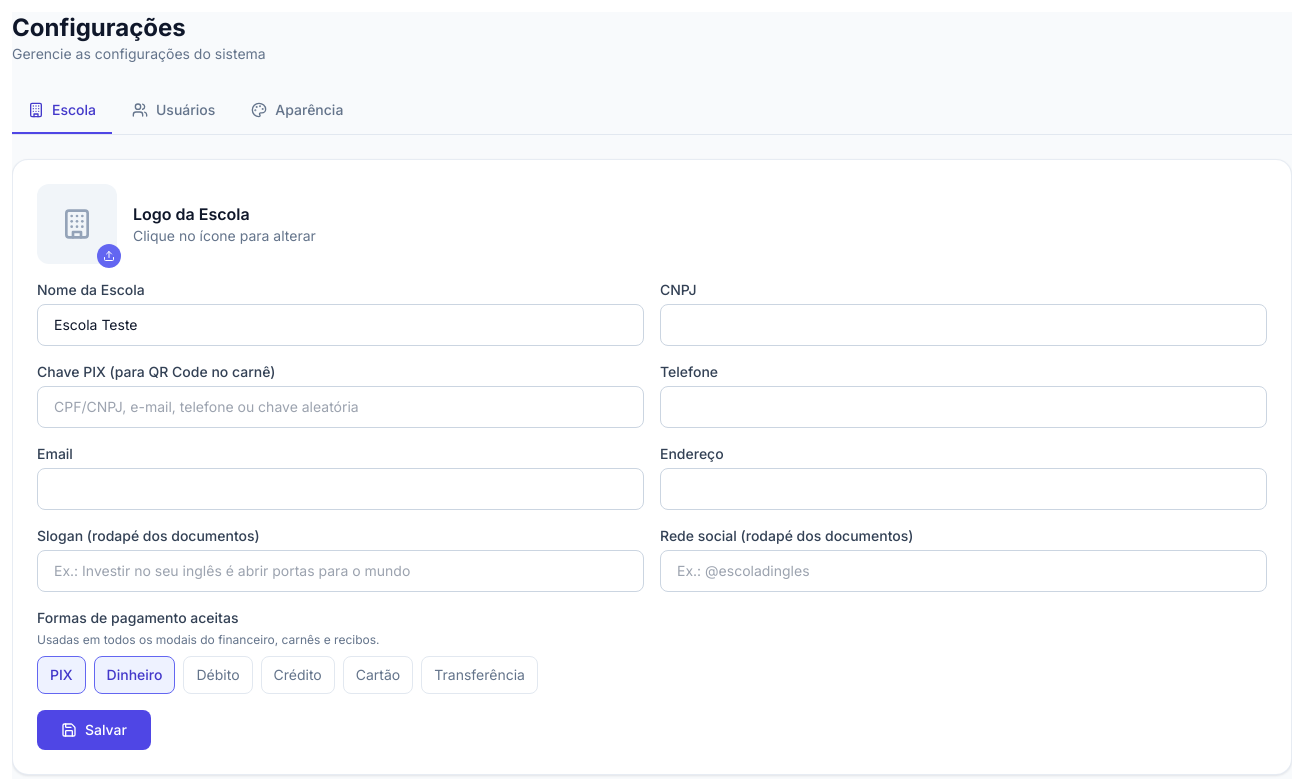
Test: Settings › mantém a chave PIX digitada e mostra erro quando o PUT falha (D-12)
Expected: the field showing "Escola Teste" below "Nome da Escola" is shown, [37,304,644,346]
In the field with placeholder "CPF/CNPJ, e-mail, telefone ou chave aleatória": (340, 407) [37,386,644,428], type "pix@teste.com"
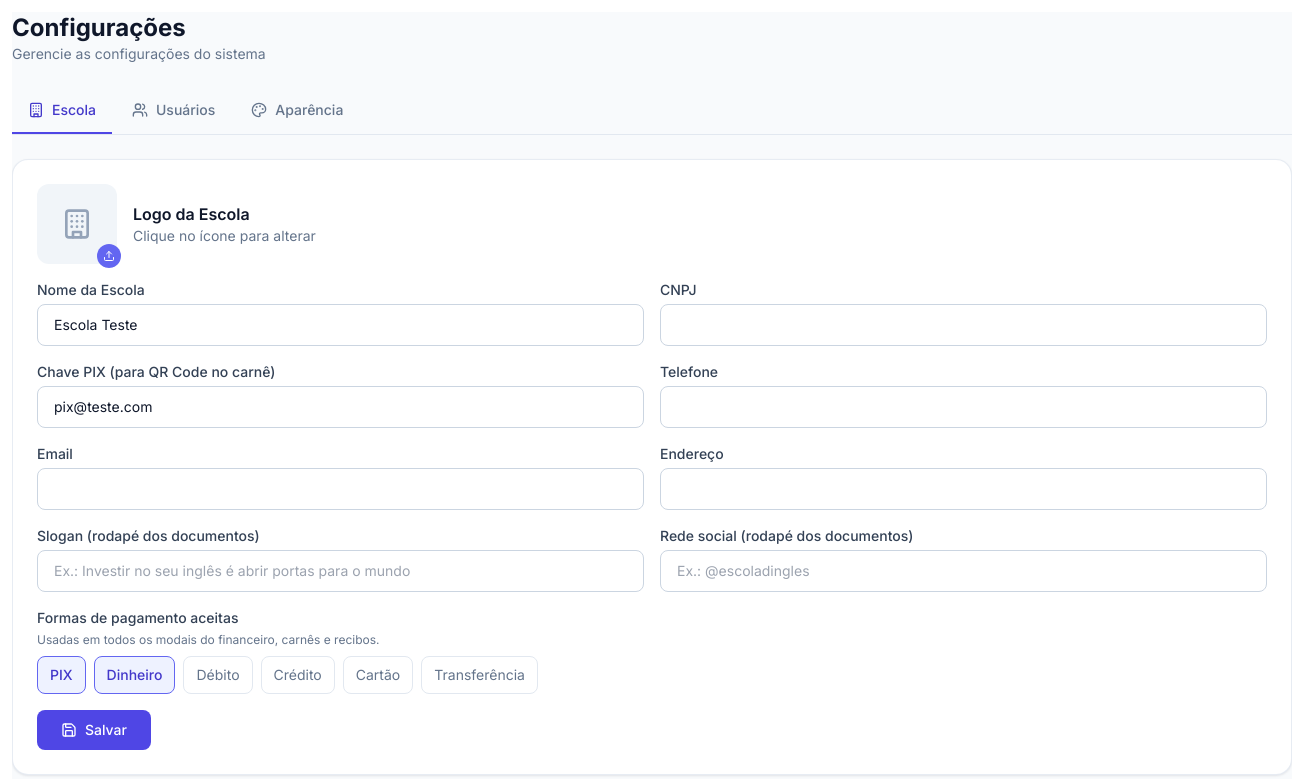
Click the button "Salvar": (94, 730) [37,710,151,750]
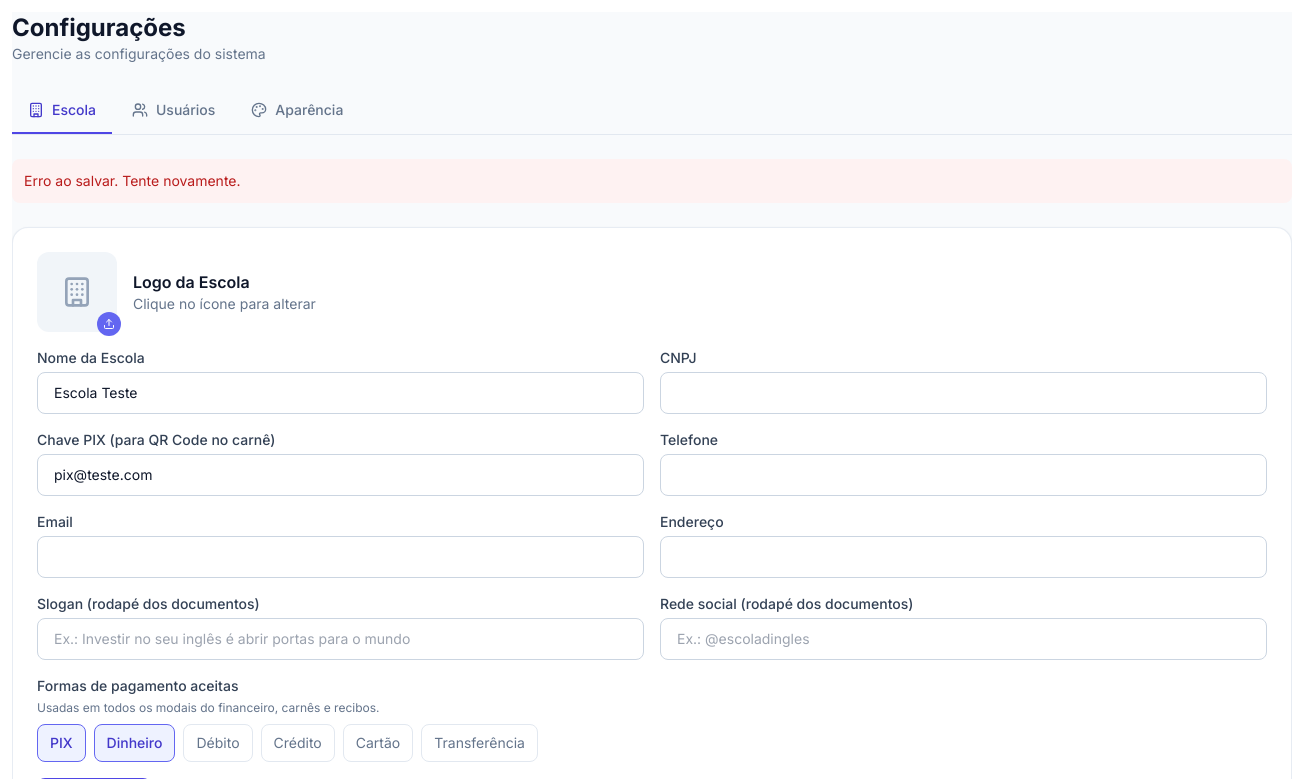
Expected: the text "Erro ao salvar. Tente novamente." is shown, [12,159,1291,203]
